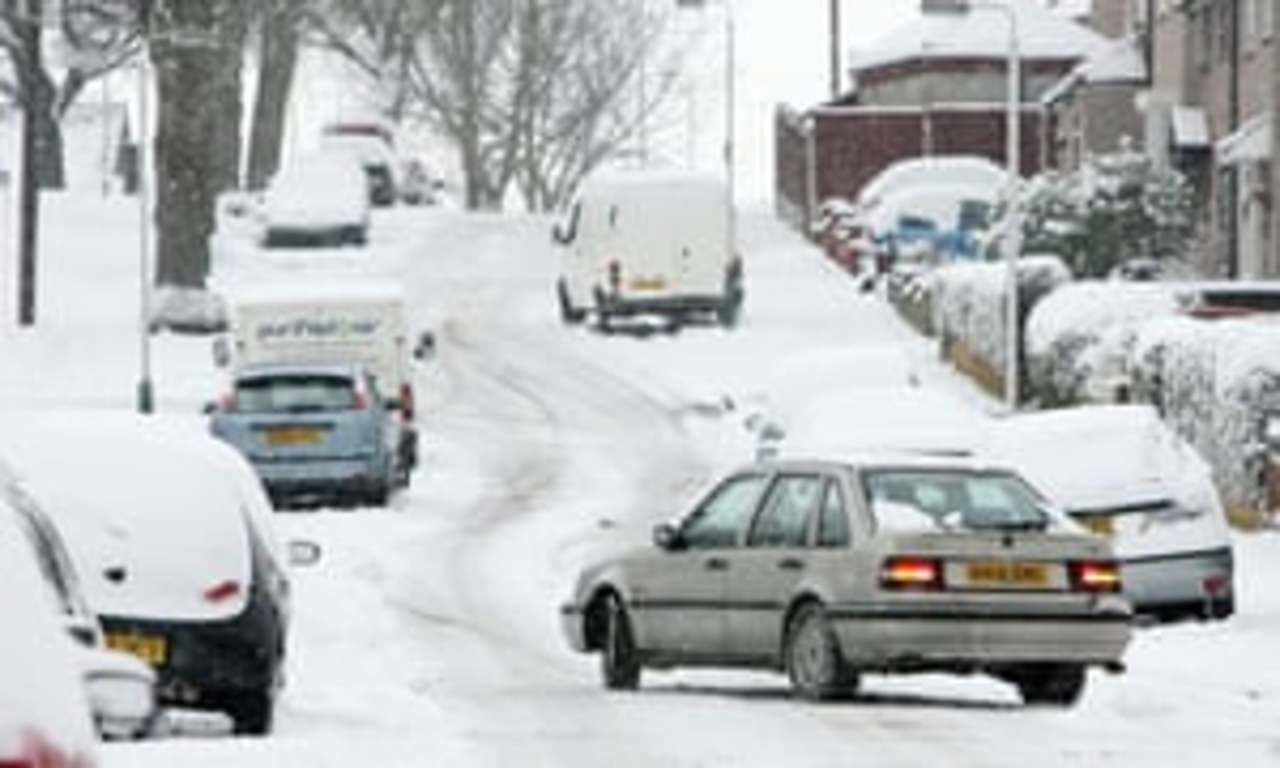car: (573, 442, 1119, 710), (24, 386, 297, 738), (969, 396, 1231, 624), (554, 163, 743, 324), (212, 361, 398, 495), (263, 163, 366, 241), (317, 136, 401, 207)
truck: (209, 288, 414, 507)
